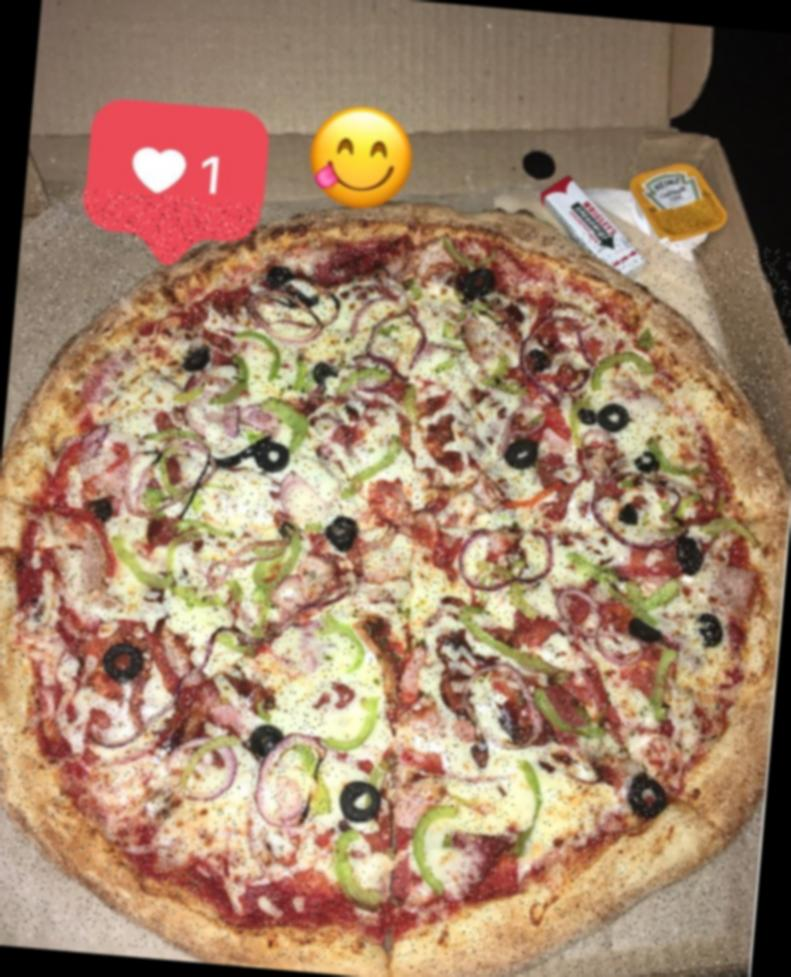Olives: (335, 776, 384, 824), (97, 642, 148, 684), (630, 772, 672, 815), (322, 511, 360, 550), (676, 530, 708, 574), (627, 612, 666, 646), (250, 718, 284, 756), (260, 440, 293, 474), (462, 266, 498, 296), (508, 437, 540, 466), (310, 360, 339, 392), (696, 613, 724, 645), (603, 402, 631, 432), (184, 344, 210, 370), (267, 264, 296, 287), (621, 498, 639, 524), (637, 449, 660, 469)
Peppers: (558, 552, 682, 616), (456, 614, 570, 682), (333, 828, 391, 908), (174, 726, 242, 790), (412, 804, 460, 894), (111, 536, 180, 594), (250, 516, 302, 589), (323, 690, 379, 757), (536, 685, 608, 737), (512, 760, 548, 863), (291, 746, 337, 822), (590, 346, 660, 395), (689, 507, 767, 548), (352, 430, 405, 490), (238, 328, 286, 382), (324, 615, 368, 670), (174, 578, 244, 610), (650, 648, 678, 727), (439, 234, 504, 268), (264, 398, 310, 443), (340, 365, 392, 399), (174, 518, 238, 544), (222, 350, 251, 407), (207, 629, 261, 658), (400, 382, 424, 424)
Pizza: (0, 183, 791, 977)
